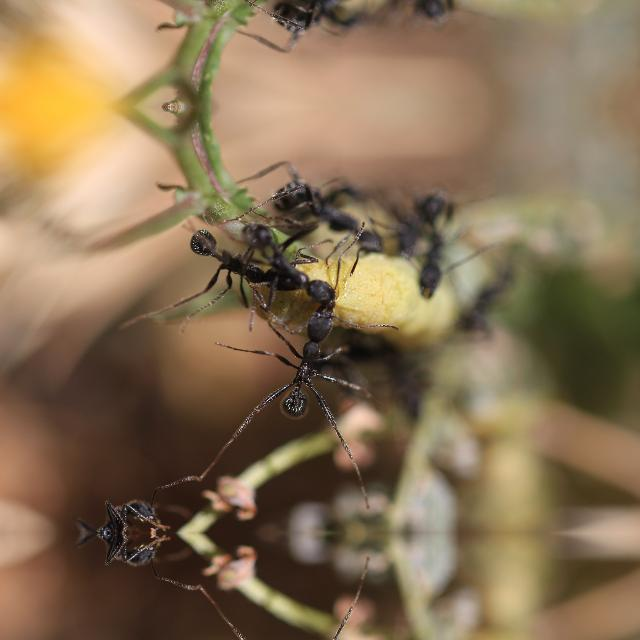Apheanogaster: (240, 296, 372, 436), (214, 220, 356, 322), (254, 164, 401, 262), (443, 234, 547, 342), (380, 181, 468, 307), (252, 0, 400, 48), (52, 534, 182, 580), (52, 486, 182, 530), (379, 0, 466, 30)
